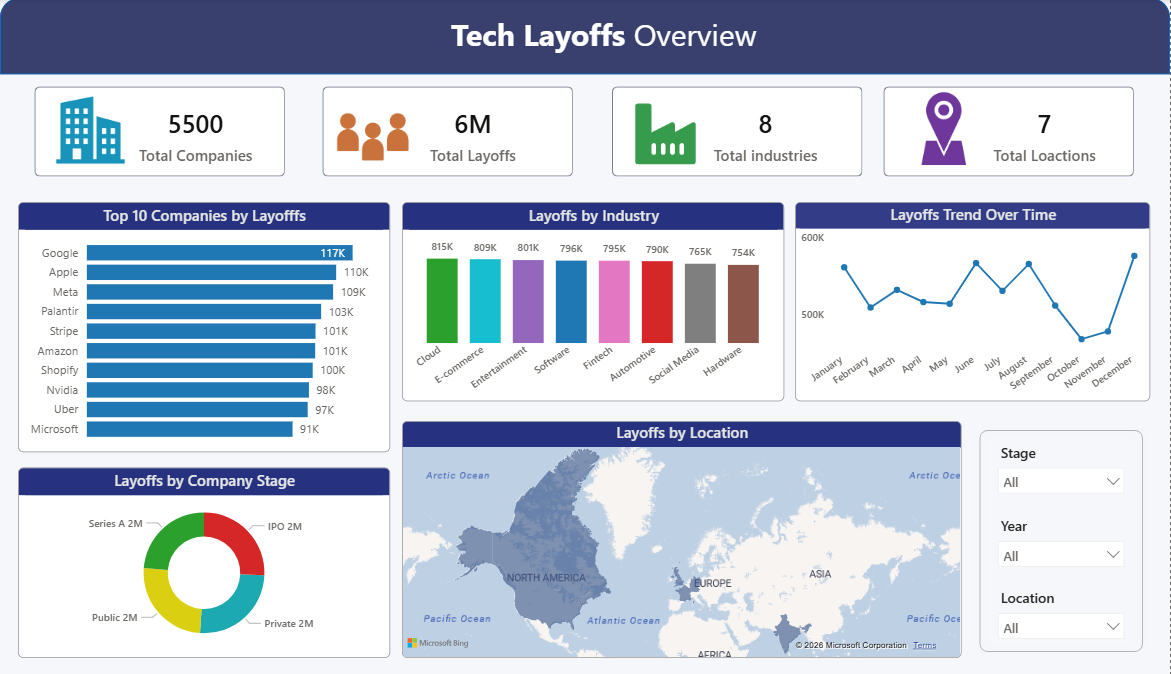

The dashboard page shown, as its layout file describes it:
{"tool":"powerbi","page":{"name":"Layoffs Analysis","canvas":[1240,720],"ordinal":0},"visuals":[{"type":"shape","box":[0,0,1240.7,81.1],"z":0},{"type":"clusteredBarChart","title":"Top 10 Companies by Layofffs","fields":{"Category":["layoffs.Company"],"Y":["layoffs.Total Laid off"]},"box":[19.1,216.3,394.5,265.6],"z":1000},{"type":"clusteredColumnChart","title":"Layoffs by Industry","fields":{"Y":["layoffs.Total Laid off"],"Category":["layoffs.Industry"]},"box":[426.3,216.3,405.6,211.6],"z":2000},{"type":"lineChart","title":"Layoffs Trend Over Time","fields":{"Y":["layoffs.Total Laid off"],"Category":["layoffs.Date.Variation.Date Hierarchy.Month"]},"box":[843,216.3,377,211.6],"z":3000},{"type":"donutChart","title":"Layoffs by Company Stage","fields":{"Y":["layoffs.Total Laid off"],"Category":["layoffs.Stage"]},"box":[19.1,497.9,394.5,202],"z":4000},{"type":"filledMap","title":"Layoffs by Location","fields":{"Category":["layoffs.Location"]},"box":[426.3,448.6,593.3,251.3],"z":5000},{"type":"shape","box":[1030.7,450.1,189.3,251.3],"z":6000},{"type":"slicer","fields":{"Values":["layoffs.Stage"]},"box":[1048.2,466,154.3,63.6],"z":7000},{"type":"slicer","fields":{"Values":["layoffs.Date.Variation.Date Hierarchy.Year"]},"box":[1048.2,544,154.3,65.2],"z":8000},{"type":"textbox","box":[467.6,11.1,345.2,57.3],"z":9000},{"type":"shape","box":[36.6,93.8,265.6,95.4],"z":11000},{"type":"shape","box":[342.5,93.8,265.6,95.4],"z":12000},{"type":"shape","box":[648.4,93.8,265.6,95.4],"z":13000},{"type":"shape","box":[936.9,93.8,265.6,95.4],"z":14000},{"type":"cardVisual","fields":{"Data":["layoffs.Total Companies"]},"box":[112.9,97,189.3,87.5],"z":15000},{"type":"cardVisual","fields":{"Data":["layoffs.Total industries"]},"box":[717.4,97,189.3,87.5],"z":16000},{"type":"cardVisual","fields":{"Data":["layoffs.Total Laid off"]},"box":[396.1,97,211.6,87.5],"z":17000},{"type":"cardVisual","fields":{"Data":["layoffs.Total Loactions"]},"box":[1013.2,97,189.3,87.5],"z":18000},{"type":"image","box":[952.8,92.3,95.4,92.3],"z":19000},{"type":"image","box":[661.7,103.4,87.5,81.1],"z":20000},{"type":"image","box":[49.3,95.4,93.8,89.1],"z":21000},{"type":"image","box":[348.3,109.8,93.8,74.8],"z":22000},{"type":"slicer","fields":{"Values":["layoffs.Location"]},"box":[1048.2,620.3,154.3,65.2],"z":23000}]}

Visuals, with their boxes in screenshot pixels (x1, y1, x2, y2), scaled from the page's 1240x720 canvas onto the 1171x674 screenshot:
shape: rect(0, 0, 1170, 76)
"Top 10 Companies by Layofffs" clusteredBarChart: rect(18, 202, 391, 451)
"Layoffs by Industry" clusteredColumnChart: rect(403, 202, 786, 401)
"Layoffs Trend Over Time" lineChart: rect(796, 202, 1152, 401)
"Layoffs by Company Stage" donutChart: rect(18, 466, 391, 655)
"Layoffs by Location" filledMap: rect(403, 420, 963, 655)
shape: rect(973, 421, 1152, 657)
slicer - layoffs.Stage: rect(990, 436, 1136, 496)
slicer - layoffs.Date.Variation.Date Hierarchy.Year: rect(990, 509, 1136, 570)
textbox: rect(442, 10, 768, 64)
shape: rect(35, 88, 285, 177)
shape: rect(323, 88, 574, 177)
shape: rect(612, 88, 863, 177)
shape: rect(885, 88, 1136, 177)
cardVisual - layoffs.Total Companies: rect(107, 91, 285, 173)
cardVisual - layoffs.Total industries: rect(677, 91, 856, 173)
cardVisual - layoffs.Total Laid off: rect(374, 91, 574, 173)
cardVisual - layoffs.Total Loactions: rect(957, 91, 1136, 173)
image: rect(900, 86, 990, 173)
image: rect(625, 97, 708, 173)
image: rect(47, 89, 135, 173)
image: rect(329, 103, 417, 173)
slicer - layoffs.Location: rect(990, 581, 1136, 642)
